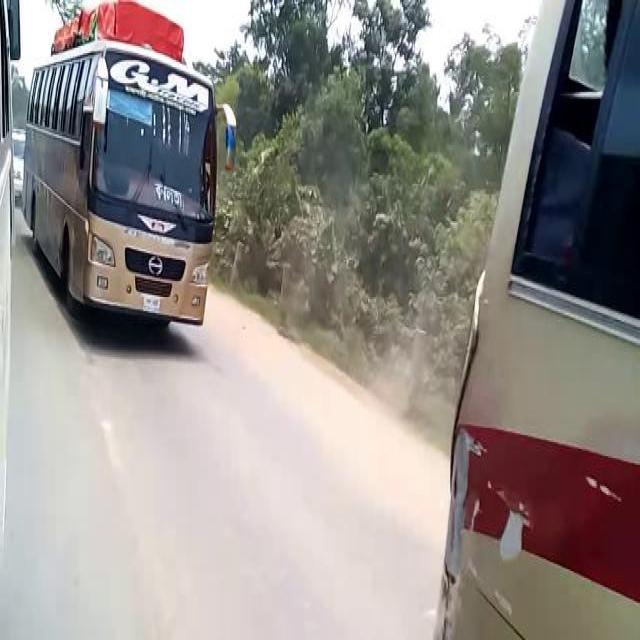bus: (438, 3, 636, 633), (22, 12, 238, 329)
